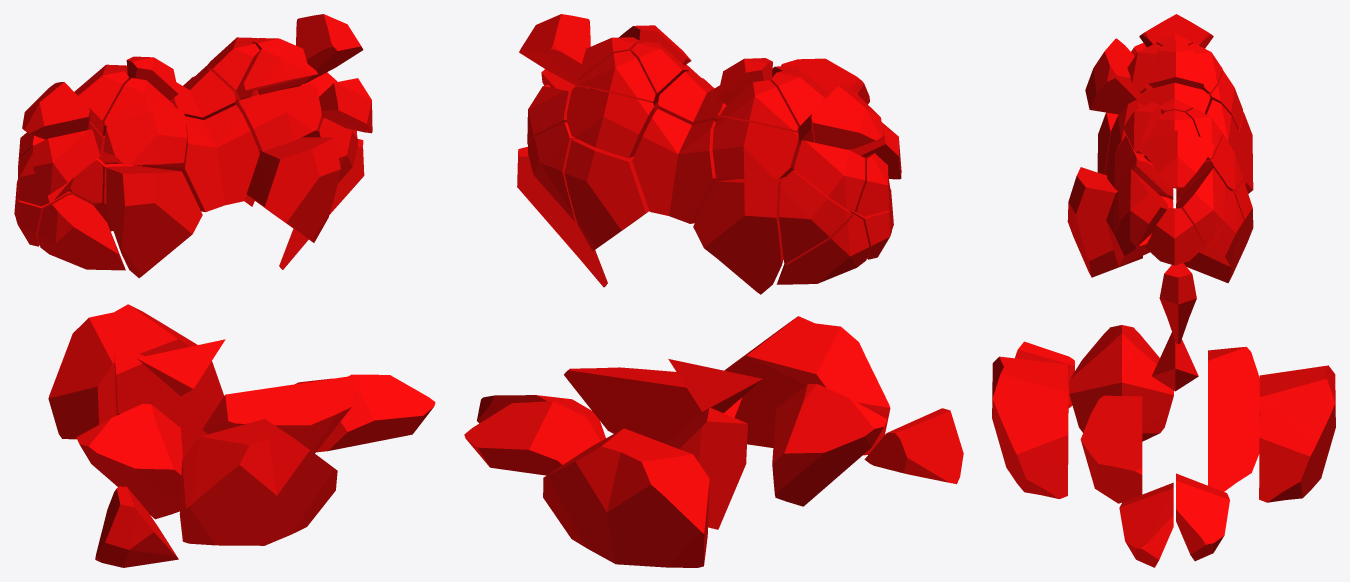
File: Env_Heart_04a.fbx
3 renders of one model, left to right at view 1: azimuth 30°, elevation 25°; view 2: azimuth 150°, elevation 25°; view 3: azimuth 270°, elevation 25°, orthographic. The views are drawn at different scales.
Visible parts, largest first — view 1: Cube.009_cell.063; view 2: Cube.009_cell.063; view 3: Cube.009_cell.063.
Boxes of the visible parts, x1,y1,x2,y2 form: Cube.009_cell.063: (14,14,435,567); Cube.009_cell.063: (464,14,963,567); Cube.009_cell.063: (992,14,1335,567).
Size of the model in its own units: 164 by 171 by 129.
